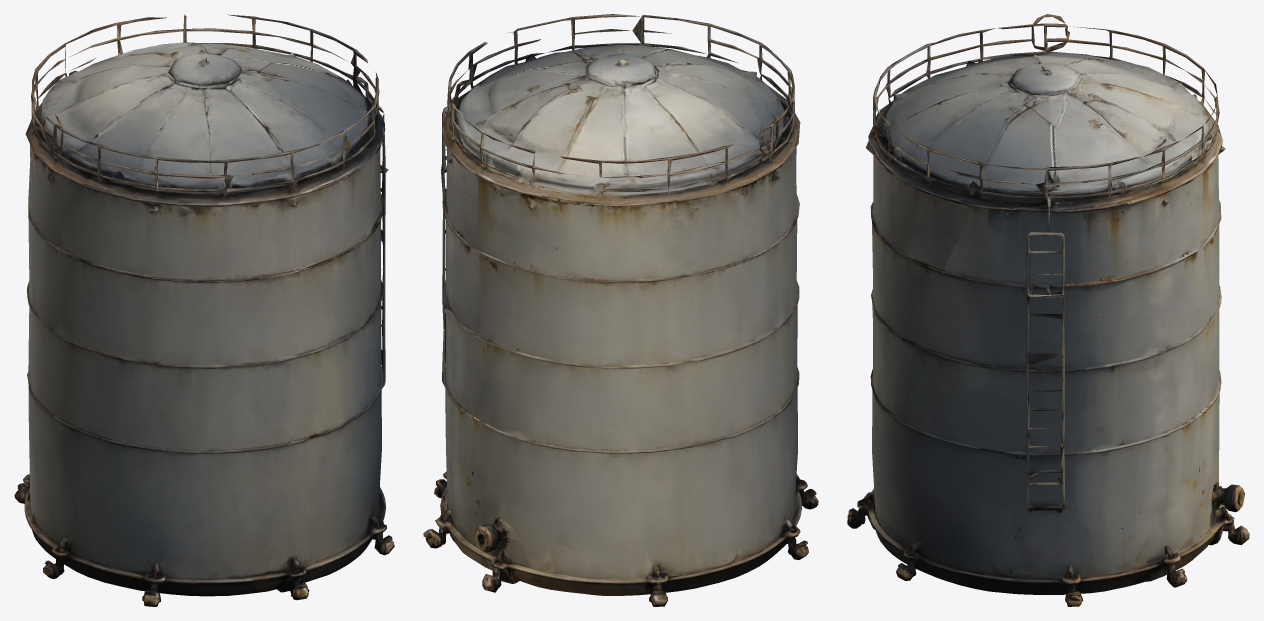
The model's file is pt_tank_v.glb.
The picture shows the model from 3 angles, left to right: view 1: azimuth 30°, elevation 25°; view 2: azimuth 150°, elevation 25°; view 3: azimuth 270°, elevation 25°; orthographic projection.
Parts seen in each view (by area): view 1: tripo_node_842e15bf-b6b5-45fa-9294-8ae26cc005bb; view 2: tripo_node_842e15bf-b6b5-45fa-9294-8ae26cc005bb; view 3: tripo_node_842e15bf-b6b5-45fa-9294-8ae26cc005bb.
Boxes of the visible parts, x1,y1,x2,y2 form: tripo_node_842e15bf-b6b5-45fa-9294-8ae26cc005bb: [14, 14, 394, 606]; tripo_node_842e15bf-b6b5-45fa-9294-8ae26cc005bb: [423, 14, 818, 606]; tripo_node_842e15bf-b6b5-45fa-9294-8ae26cc005bb: [847, 14, 1249, 606].
Size of the model in its own units: 0.7596 by 0.9816 by 0.7767.
Materials: 1 (1 with a texture image).
